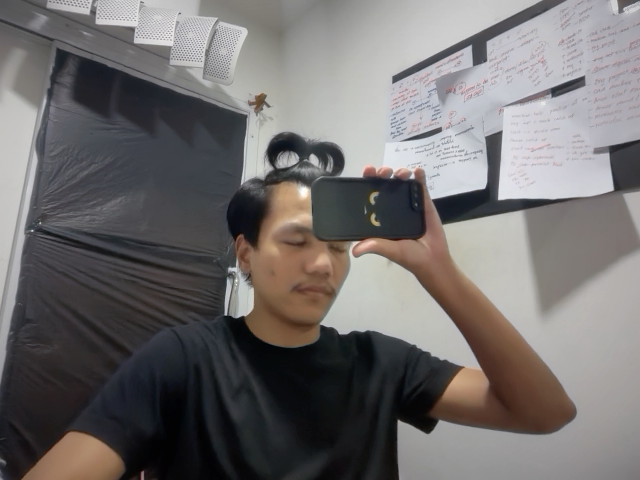phone: (288, 156, 463, 259)
